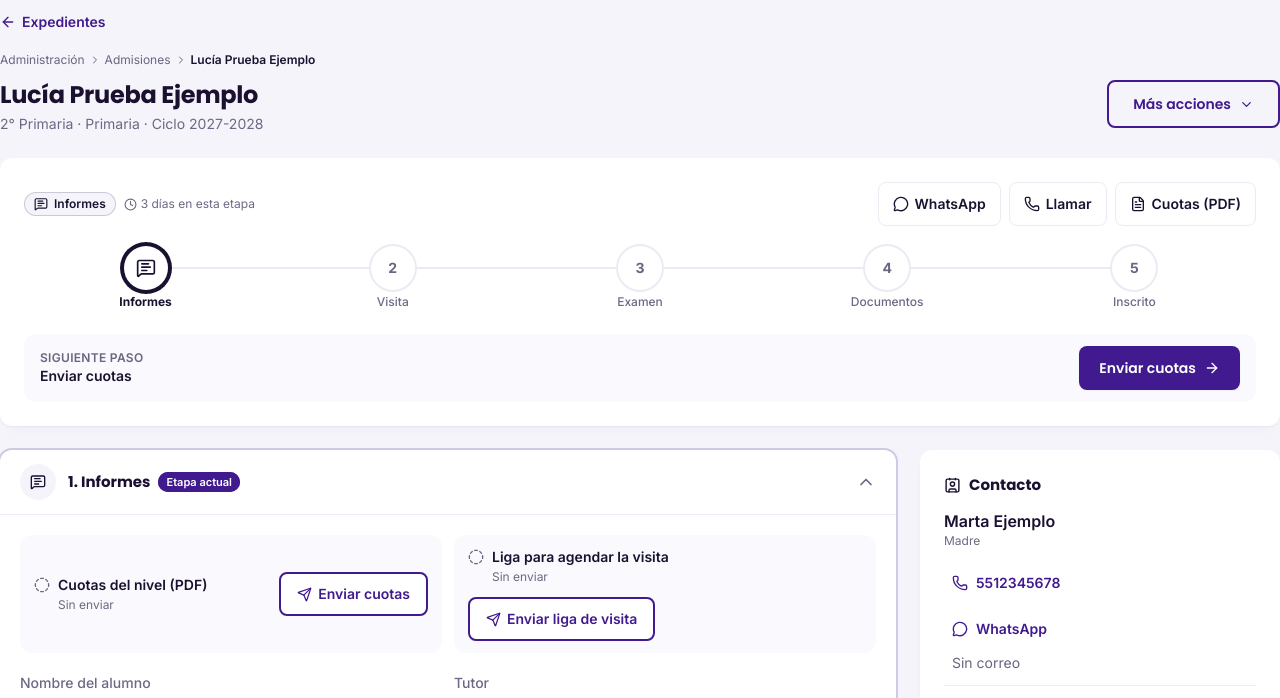
Scenario: AdminCase (Expediente) › SendDialog › without an email only WhatsApp and copy are offered
The width and height of the screenshot is (1280, 698).
Check: the heading "Lucía Prueba Ejemplo" is shown, box [0,80,263,110]
Step 1. Click the button "Enviar cuotas" in the row of "Siguiente paso" → (1160, 368), box [1079,346,1240,390]
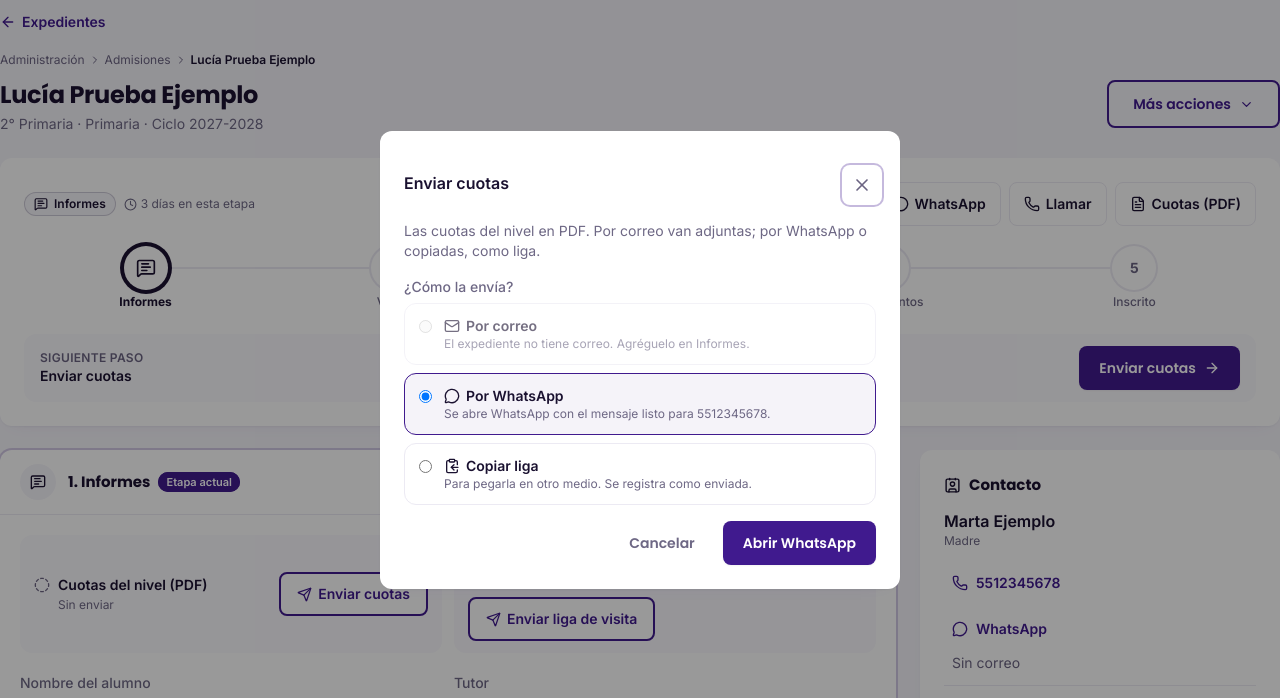
Check: the radio button labelled "Por correo" is disabled, box [419,320,432,333]
Check: the radio button labelled "Por WhatsApp" is checked, box [419,390,432,403]
